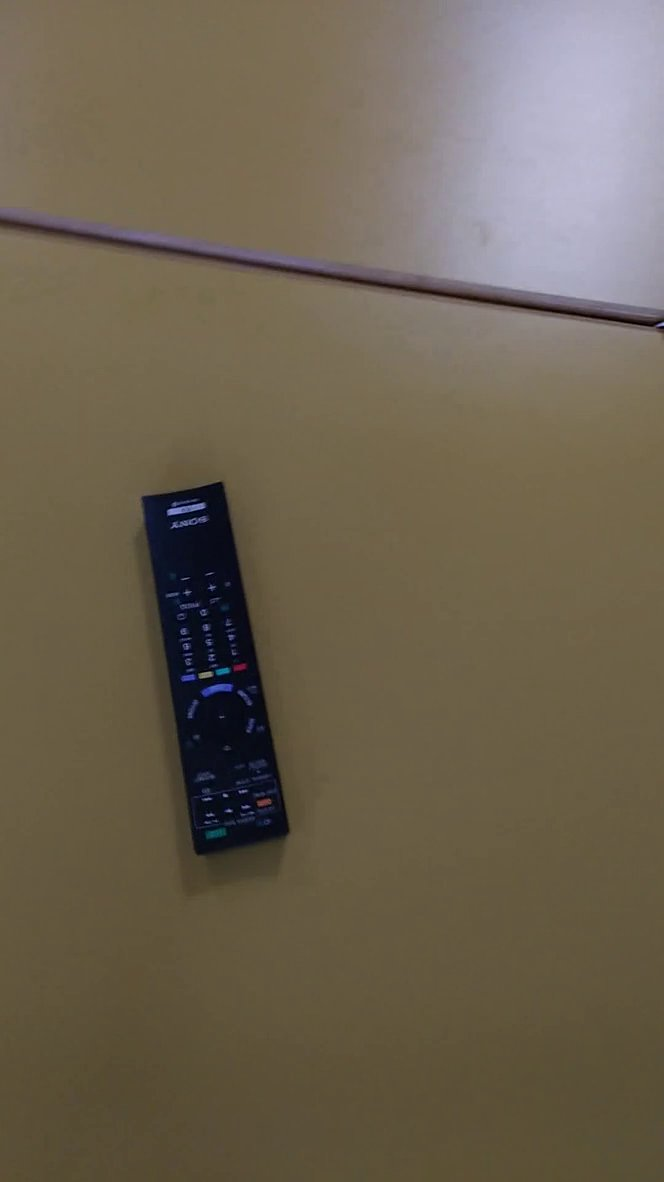remote: (135, 461, 341, 873)
